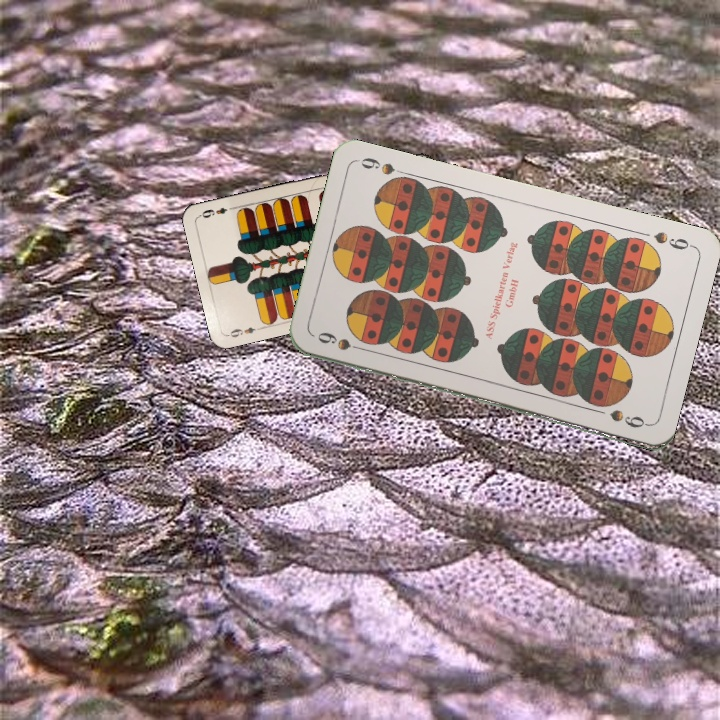E9: (224, 323, 265, 340)
S9: (313, 329, 370, 354), (649, 227, 696, 253)
